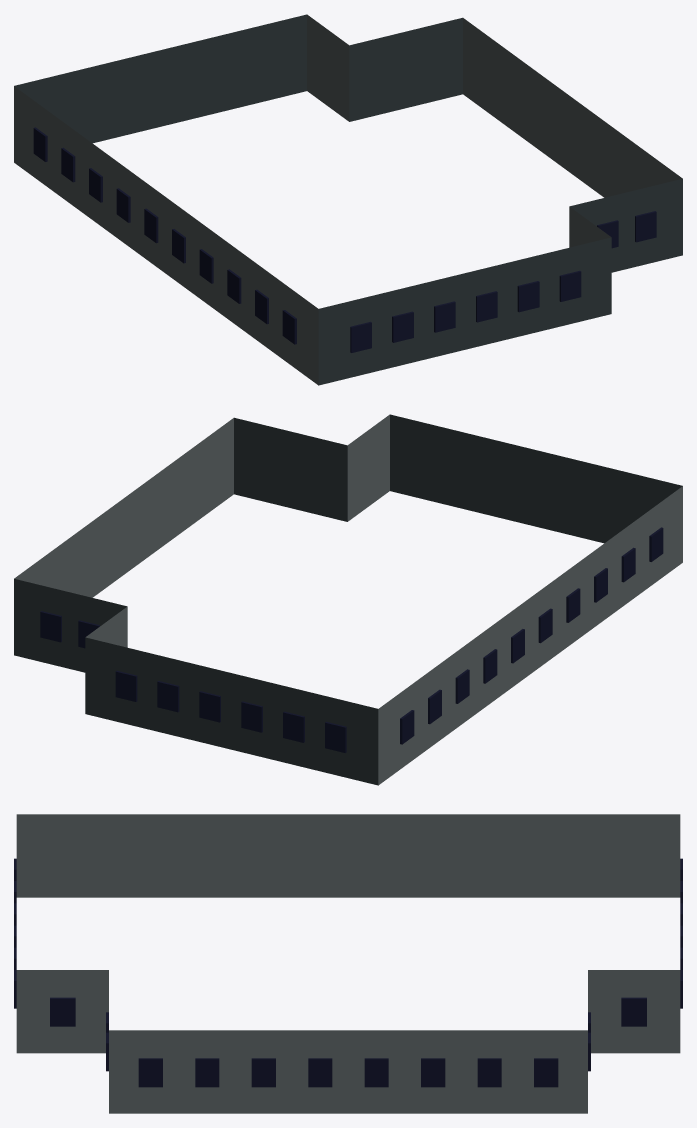
File: TB_CITY_Skysc_S_LowerBodyB_Gray.FBX
3 renders of one model, top to bottom at view 1: azimuth 30°, elevation 25°; view 2: azimuth 150°, elevation 25°; view 3: azimuth 270°, elevation 25°, orthographic. The views are drawn at different scales.
Visible parts, largest first — view 1: TB_CITY_Skysc_S_LowerBodyB_Gray; view 2: TB_CITY_Skysc_S_LowerBodyB_Gray; view 3: TB_CITY_Skysc_S_LowerBodyB_Gray.
Boxes of the visible parts, x1,y1,x2,y2 form: TB_CITY_Skysc_S_LowerBodyB_Gray: (14, 14, 682, 385); TB_CITY_Skysc_S_LowerBodyB_Gray: (14, 414, 682, 785); TB_CITY_Skysc_S_LowerBodyB_Gray: (14, 814, 682, 1113).
Size of the model in its own units: 28.06 by 5 by 36.3.
